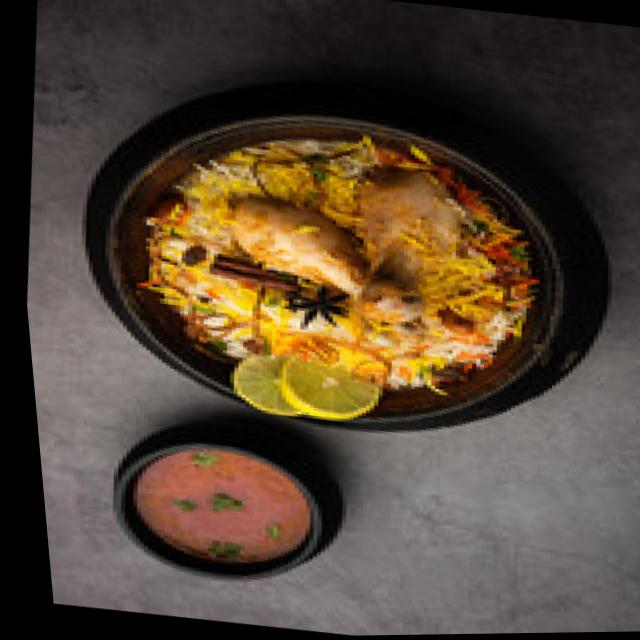BIRIYANI: (144, 136, 543, 388)
KURMA: (128, 451, 308, 565)
